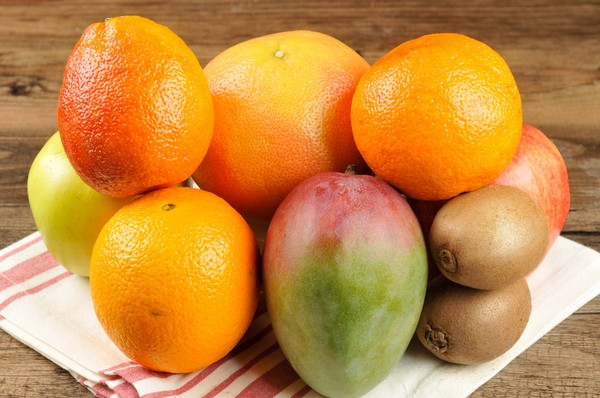mango: (267, 172, 427, 395)
